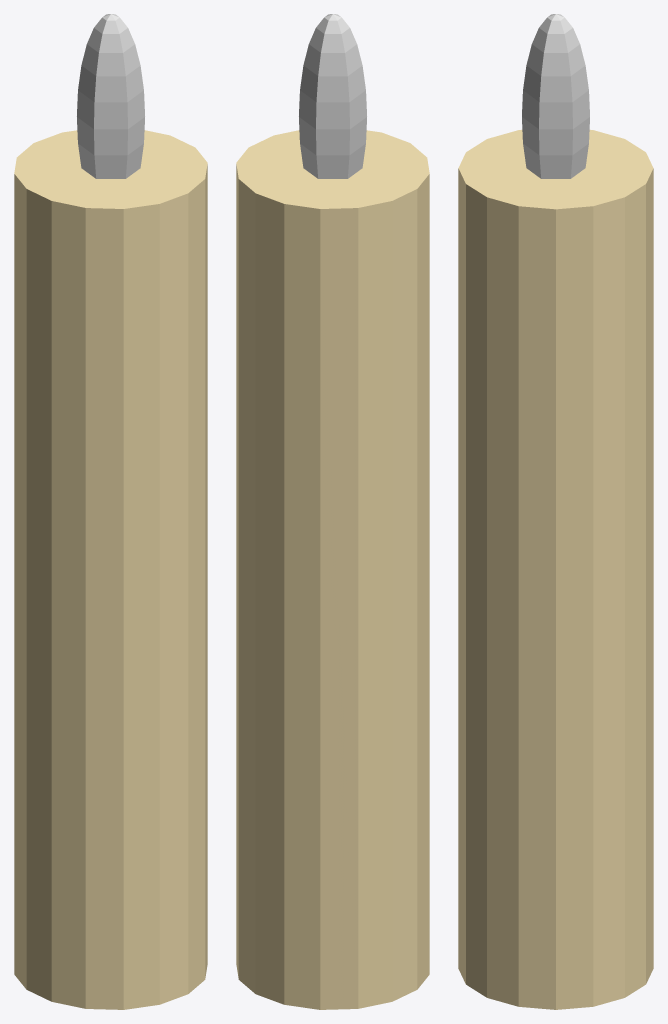
File: Candle_white.fbx
The picture shows the model from 3 angles, left to right: view 1: azimuth 30°, elevation 25°; view 2: azimuth 150°, elevation 25°; view 3: azimuth 270°, elevation 25°; orthographic projection.
Parts seen in each view (by area): view 1: Candle.1, Candle.F; view 2: Candle.1, Candle.F; view 3: Candle.1, Candle.F.
Boxes of the visible parts, box(x1,y1,x2,y2) form: Candle.1: box(14, 130, 207, 1009); Candle.F: box(77, 14, 144, 178); Candle.1: box(236, 130, 429, 1009); Candle.F: box(299, 14, 366, 178); Candle.1: box(458, 129, 653, 1009); Candle.F: box(522, 14, 589, 178).
Size of the model in its own units: 44.16 by 239 by 44.16.
